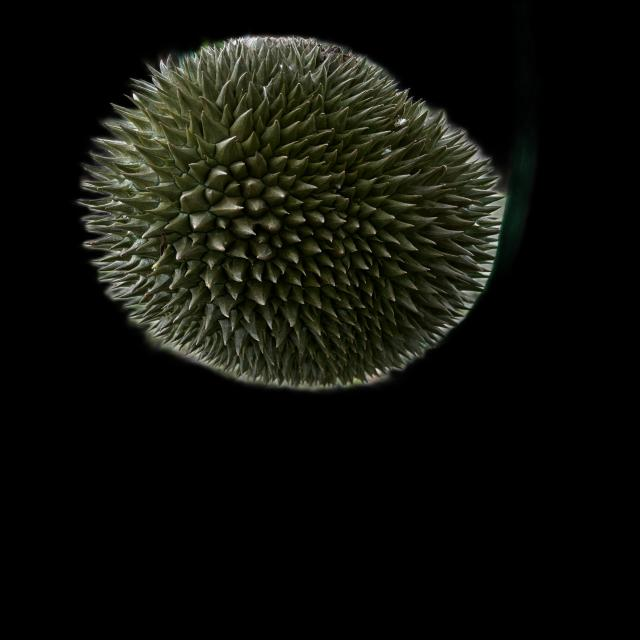immature: (66, 28, 504, 388)
